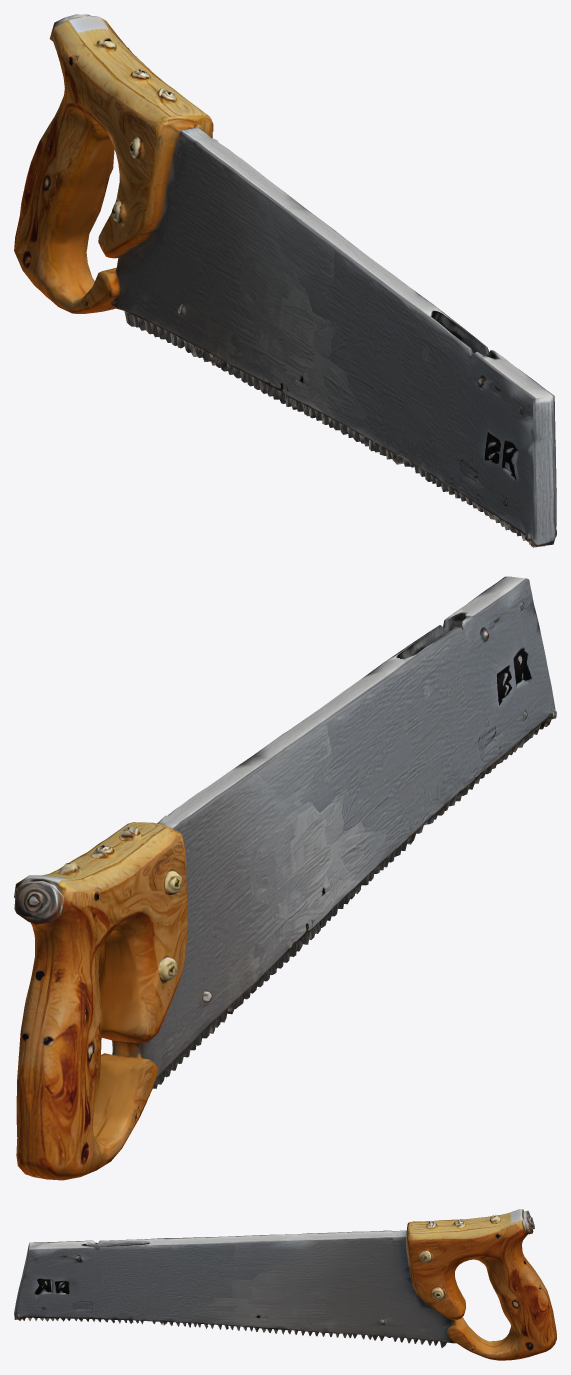
Rendered from hand_saw.257a198479.glb.
3 renders of one model, top to bottom at view 1: azimuth 30°, elevation 25°; view 2: azimuth 150°, elevation 25°; view 3: azimuth 270°, elevation 25°, orthographic. The views are drawn at different scales.
Parts seen in each view (by area): view 1: hand_saw; view 2: hand_saw; view 3: hand_saw.
Boxes of the visible parts, x1,y1,x2,y2 form: hand_saw: [14, 14, 556, 547]; hand_saw: [14, 576, 556, 1180]; hand_saw: [14, 1209, 556, 1360].
Bounding box in the file's own units: 0.0597 × 0.1876 × 0.62.
Materials: 1 (1 with a texture image).
